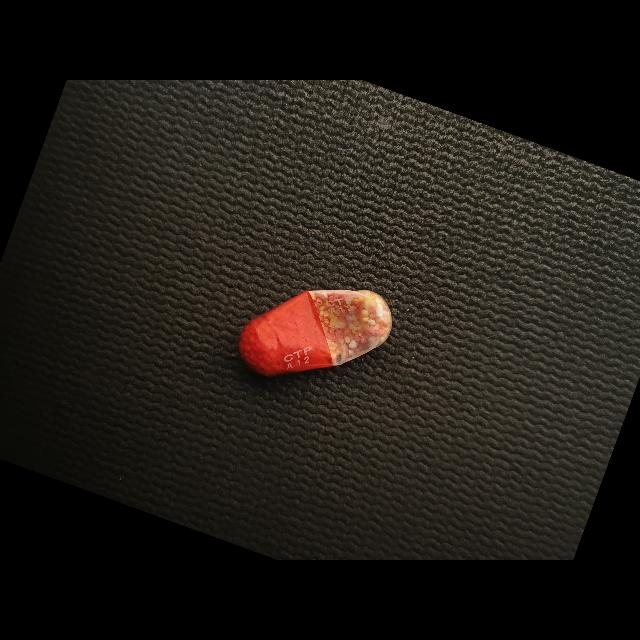Defective Capsule: (239, 290, 392, 376)
